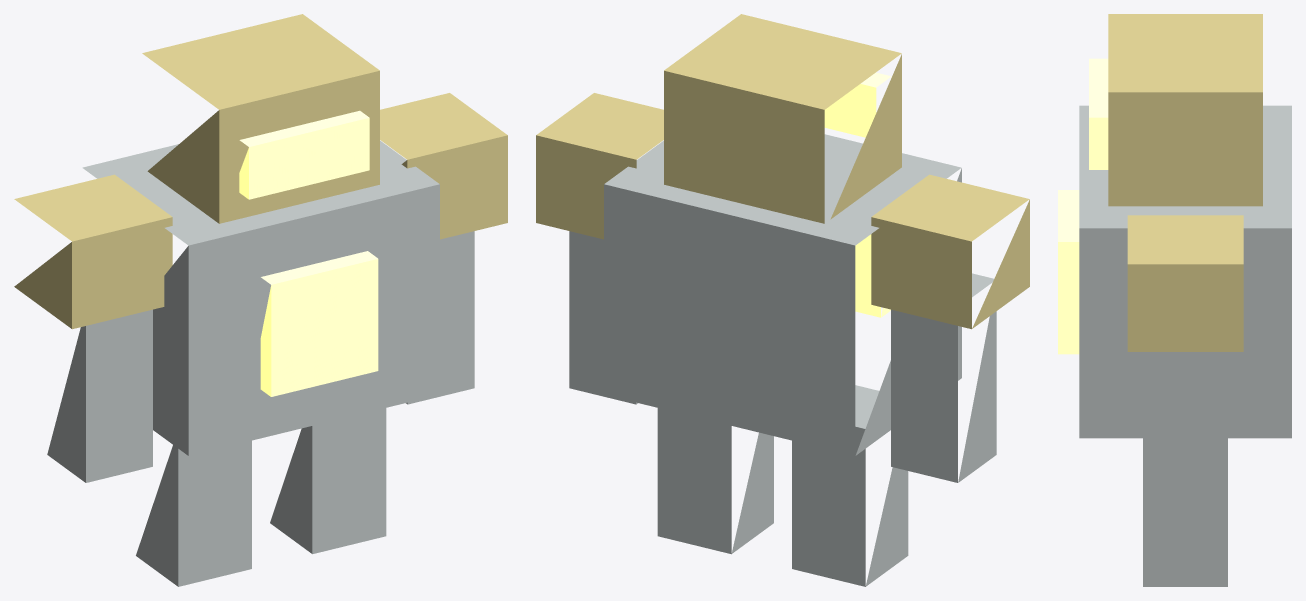
File: golem_luminous_02.glb
3 views of the same model, side by side, from view 1: azimuth 30°, elevation 25°; view 2: azimuth 150°, elevation 25°; view 3: azimuth 270°, elevation 25° (orthographic).
Visible parts, largest first — view 1: LuminousChrome, LuminousGold, LuminousGlow; view 2: LuminousChrome, LuminousGold, LuminousGlow; view 3: LuminousChrome, LuminousGold, LuminousGlow.
Boxes of the visible parts, x1,y1,x2,y2 form: LuminousChrome: (47,140,474,586); LuminousGold: (14,14,507,329); LuminousGlow: (239,110,378,396); LuminousChrome: (569,134,996,586); LuminousGold: (536,14,1029,329); LuminousGlow: (824,72,891,317); LuminousChrome: (1079,105,1291,586); LuminousGold: (1108,14,1262,351); LuminousGlow: (1058,58,1108,354).
Bounding box in the file's own units: 1.3 × 1.38 × 0.605.
